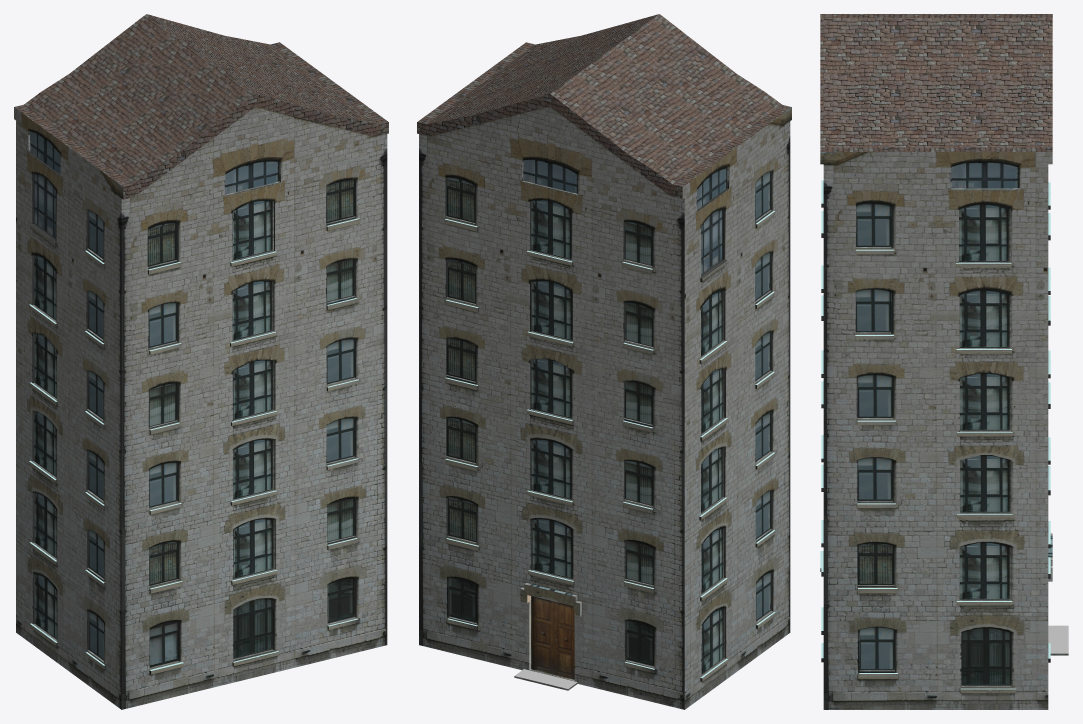
The model's file is house.dae.
3 renders of one model, left to right at view 1: azimuth 30°, elevation 25°; view 2: azimuth 150°, elevation 25°; view 3: azimuth 270°, elevation 25°, orthographic. The views are drawn at different scales.
Parts seen in each view (by area): view 1: SketchUp (×34); view 2: SketchUp (×34); view 3: SketchUp (×16).
Part boxes in pixels (x1,y1,x2,y2): SketchUp (×34): (14, 14, 388, 709); SketchUp (×34): (417, 14, 791, 709); SketchUp (×16): (820, 14, 1068, 709).
Bounding box in the file's own units: 122 × 91.34 × 253.
